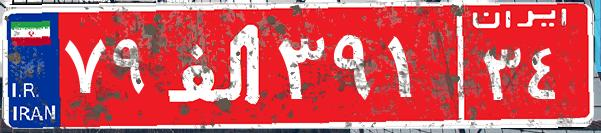1: (385, 28, 445, 110)
3: (273, 28, 330, 110), (475, 38, 525, 113)
4: (525, 38, 570, 115)
7: (57, 26, 110, 107)
9: (330, 28, 385, 110), (110, 28, 158, 105)
الف: (158, 15, 273, 115)
